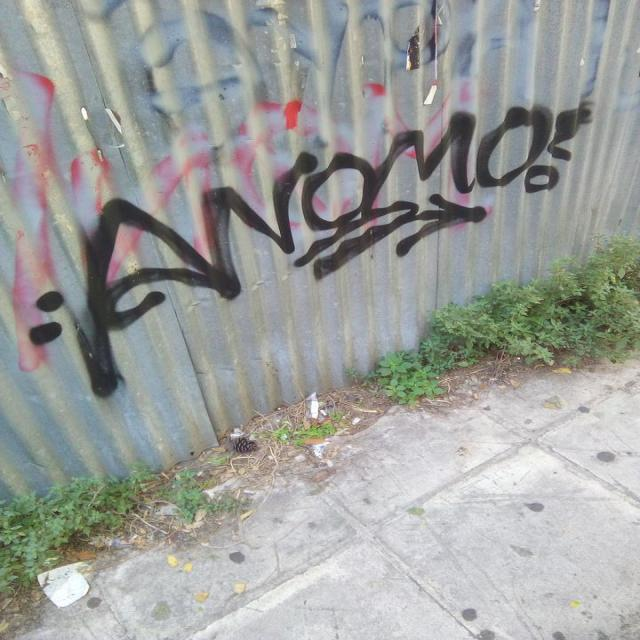nonspitting: (26, 104, 598, 396)
